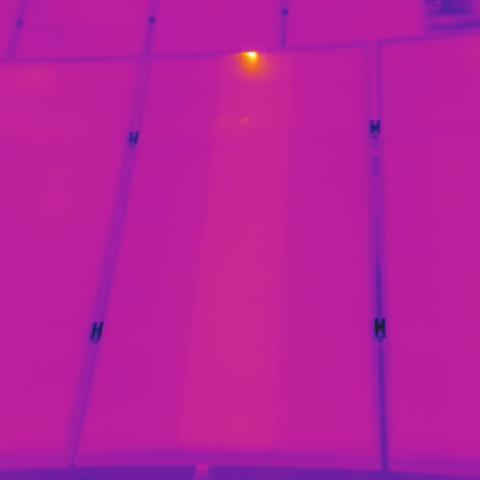fault: (242, 46, 266, 68)
